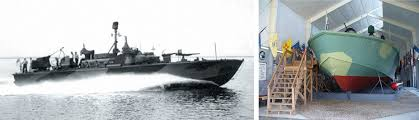boat: (11, 41, 245, 91), (307, 25, 402, 96)
